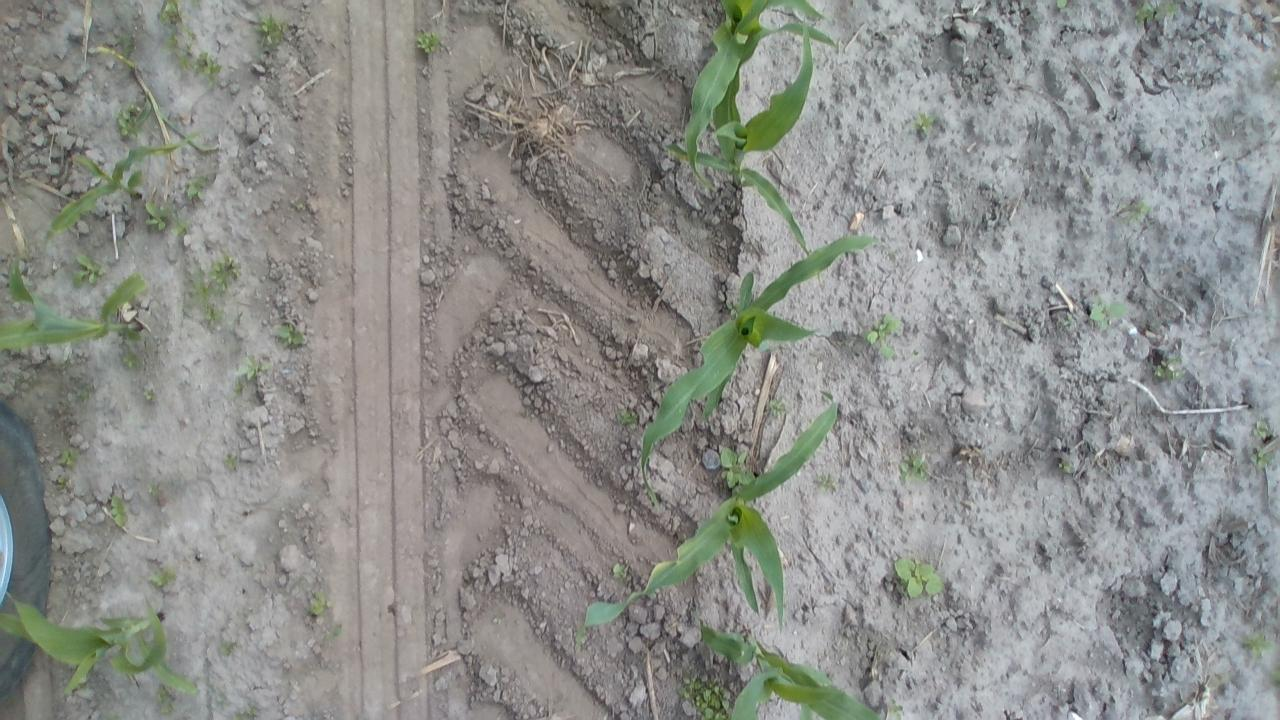Maize: (639, 233, 874, 501), (582, 402, 842, 630), (664, 21, 812, 256), (684, 0, 838, 184), (0, 590, 198, 702), (701, 618, 882, 720), (42, 134, 188, 249), (1, 240, 146, 352), (88, 44, 138, 69)
Weeds: (164, 31, 222, 76), (677, 671, 727, 716), (895, 557, 944, 598), (718, 445, 756, 487), (867, 311, 898, 361), (144, 196, 179, 228), (72, 252, 104, 286), (209, 250, 241, 284), (1134, 0, 1177, 24), (899, 454, 929, 483), (234, 352, 264, 380), (258, 18, 285, 48), (1090, 300, 1129, 320), (1244, 630, 1273, 656), (146, 565, 178, 588), (189, 276, 210, 308), (110, 495, 130, 527), (158, 686, 180, 715), (274, 323, 304, 344), (614, 407, 640, 431), (157, 1, 186, 22), (417, 29, 439, 54), (305, 590, 327, 614), (120, 105, 136, 137), (769, 398, 792, 420), (1127, 198, 1148, 219), (186, 175, 206, 197), (814, 472, 836, 491), (206, 305, 226, 325), (121, 348, 141, 366), (1154, 360, 1174, 378), (1256, 446, 1270, 470), (146, 480, 164, 498), (612, 561, 629, 580), (172, 218, 192, 234), (1254, 419, 1270, 439), (325, 622, 341, 642), (58, 449, 77, 465), (916, 112, 930, 131), (224, 452, 237, 472), (52, 477, 68, 492), (1269, 666, 1280, 686), (224, 640, 236, 656), (235, 712, 256, 720), (1056, 461, 1070, 473), (144, 389, 153, 401), (1057, 0, 1068, 8), (235, 381, 242, 393)
